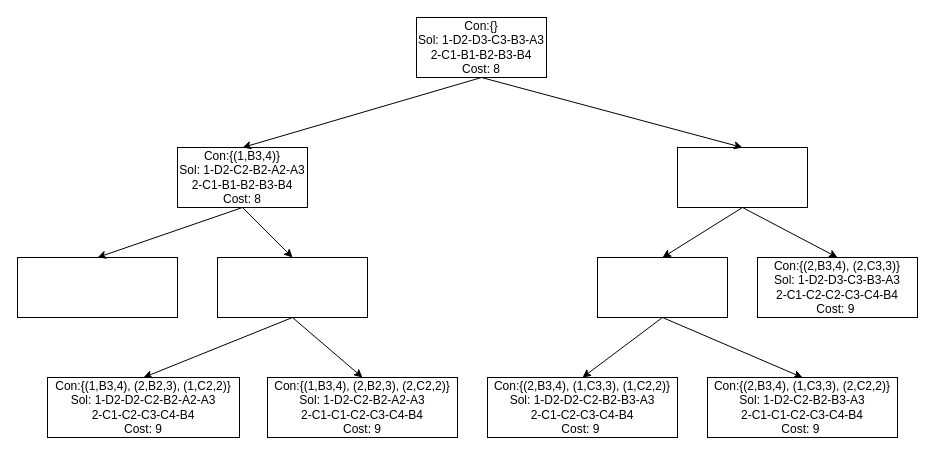
The diagram is 935 pixels wide and 455 high, and some of its shapes have lost their labels. The box of each missing label's shape, as (x1, y1, x2, y2) in pixels:
Con:{(1,B3,4), (1,B2,3)} Sol: 1-D2-C2-C2-B2-A2-A3 2-C1-B1-B2-B3-B4 Cost: 9: (16, 256, 178, 318)
Con:{(1,B3,4), (2,B2,3)} Sol: 1-D2-C2-B2-A2-A3 2-C1-C2-C3-C4-B4 Cost: 8: (216, 256, 368, 318)
Con:{(2,B3,4), (1,C3,3)} Sol: 1-D2-C2-B2-B3-A3 2-C1-C2-C3-C4-B4 Cost: 8: (596, 256, 728, 318)
Con:{(2,B3,4)} Sol: 1-D2-D3-C3-B3-A3 2-C1-C2-C3-C4-B4 Cost: 8: (676, 146, 808, 208)
